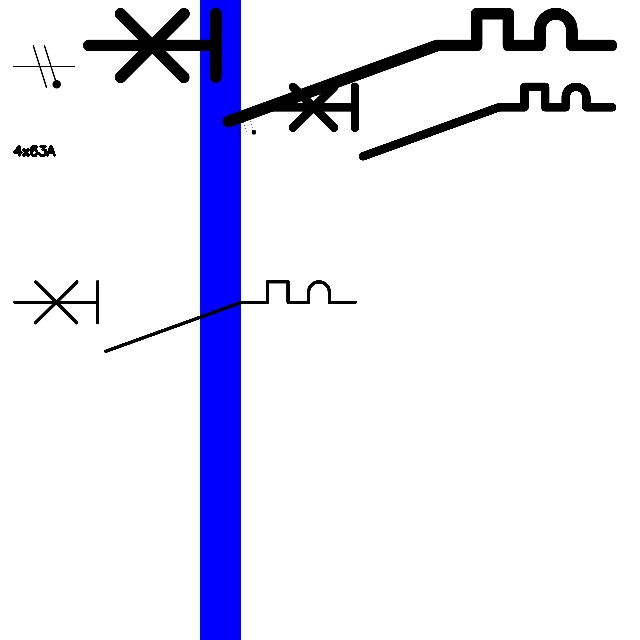interruptor_termomagnetico: (75, 0, 625, 134), (6, 273, 364, 360), (263, 78, 620, 165)
